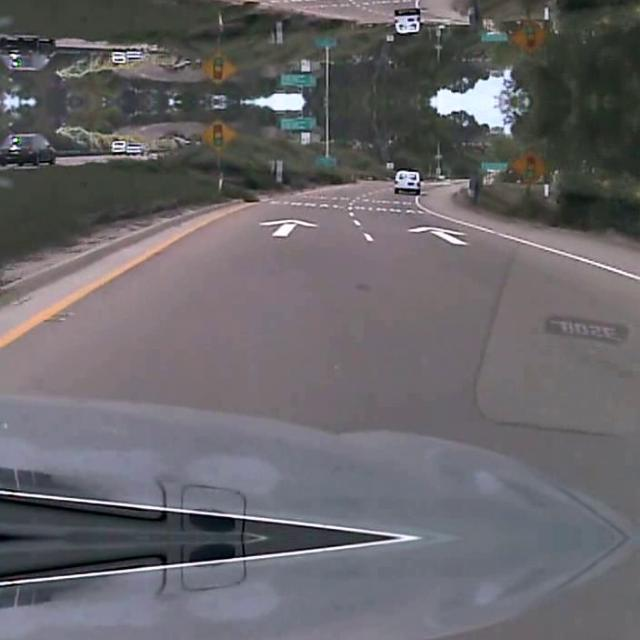signalAhead: (508, 147, 548, 181), (508, 21, 548, 55), (200, 116, 238, 150), (200, 52, 238, 86)
